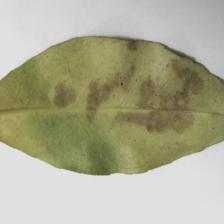black spot: (49, 58, 185, 142)
